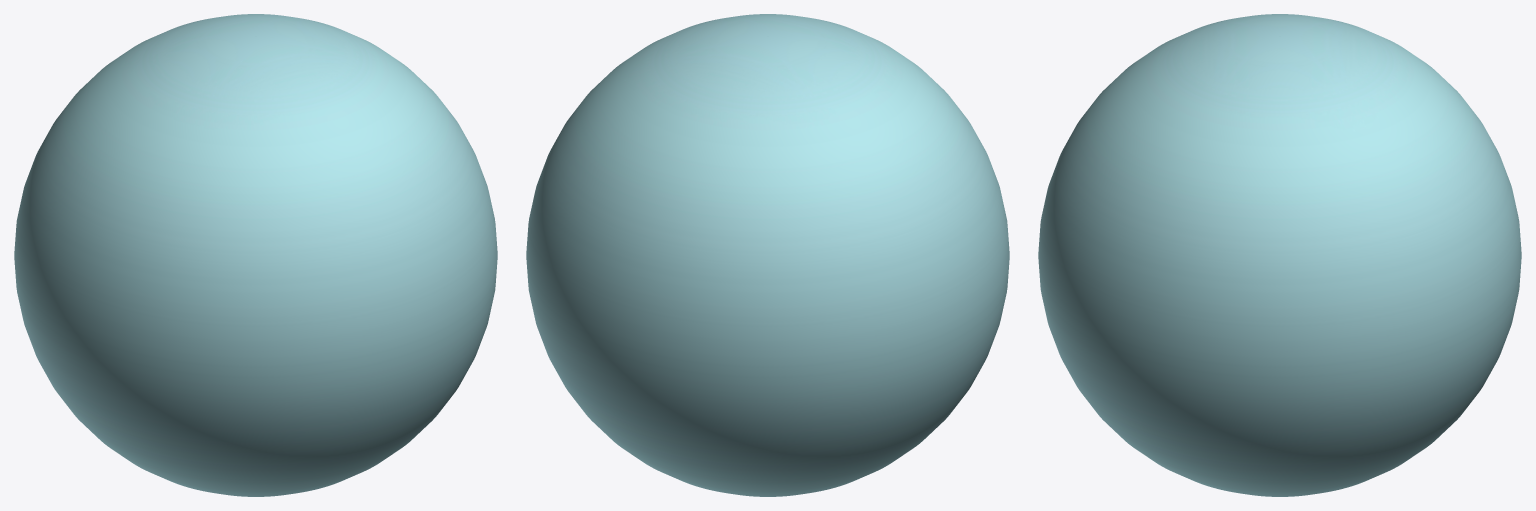
The model's file is Earth.fbx.
3 renders of one model, left to right at view 1: azimuth 30°, elevation 25°; view 2: azimuth 150°, elevation 25°; view 3: azimuth 270°, elevation 25°, orthographic.
Visible parts, largest first — view 1: Sphere; view 2: Sphere; view 3: Sphere.
Boxes of the visible parts, x1,y1,x2,y2 form: Sphere: [14, 14, 497, 496]; Sphere: [526, 14, 1009, 496]; Sphere: [1038, 14, 1521, 496].
Size of the model in its own units: 20000 by 20000 by 20000.
